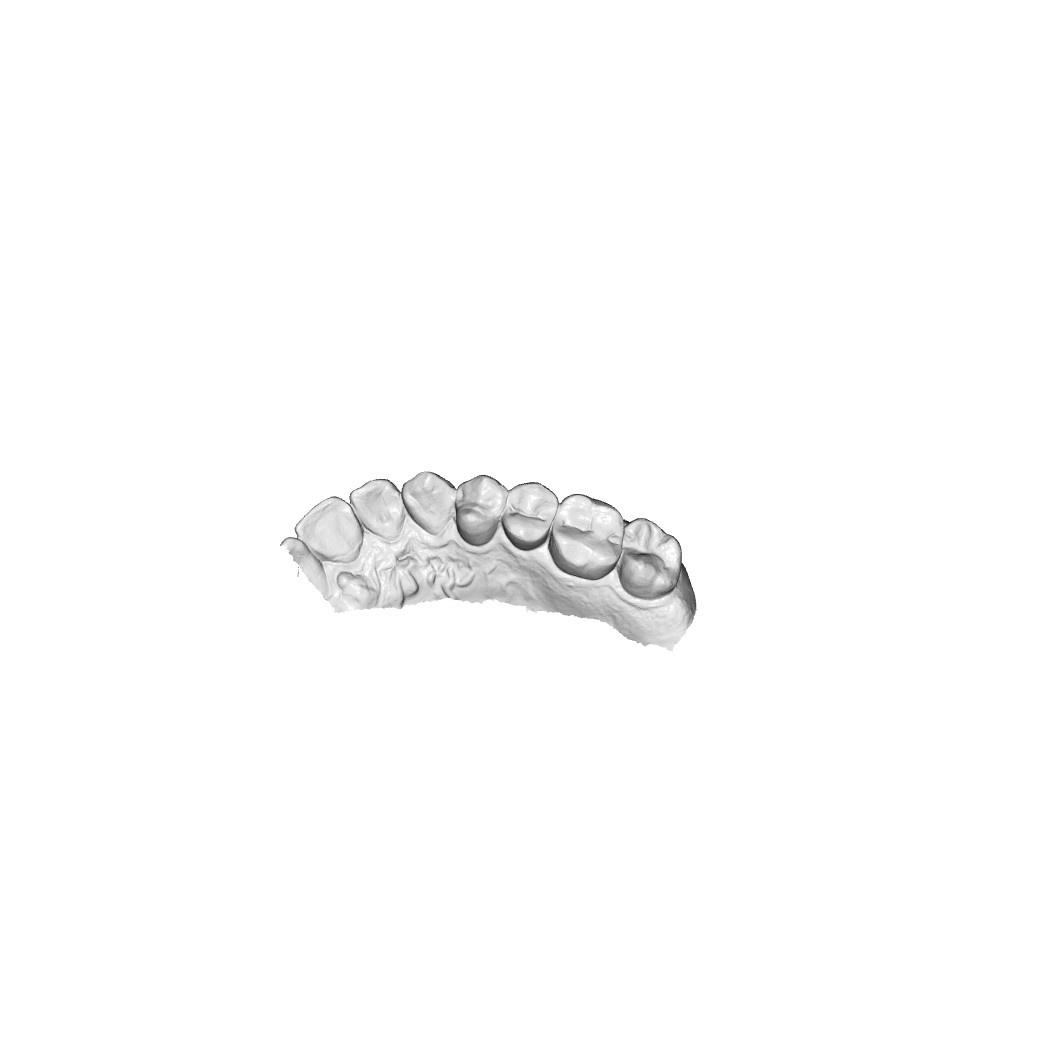canine: (399, 467, 456, 534)
incisor: (294, 494, 363, 564), (348, 474, 405, 542)
molar: (546, 492, 625, 581), (615, 515, 684, 601)
premolar: (498, 478, 558, 553), (452, 472, 505, 546)
